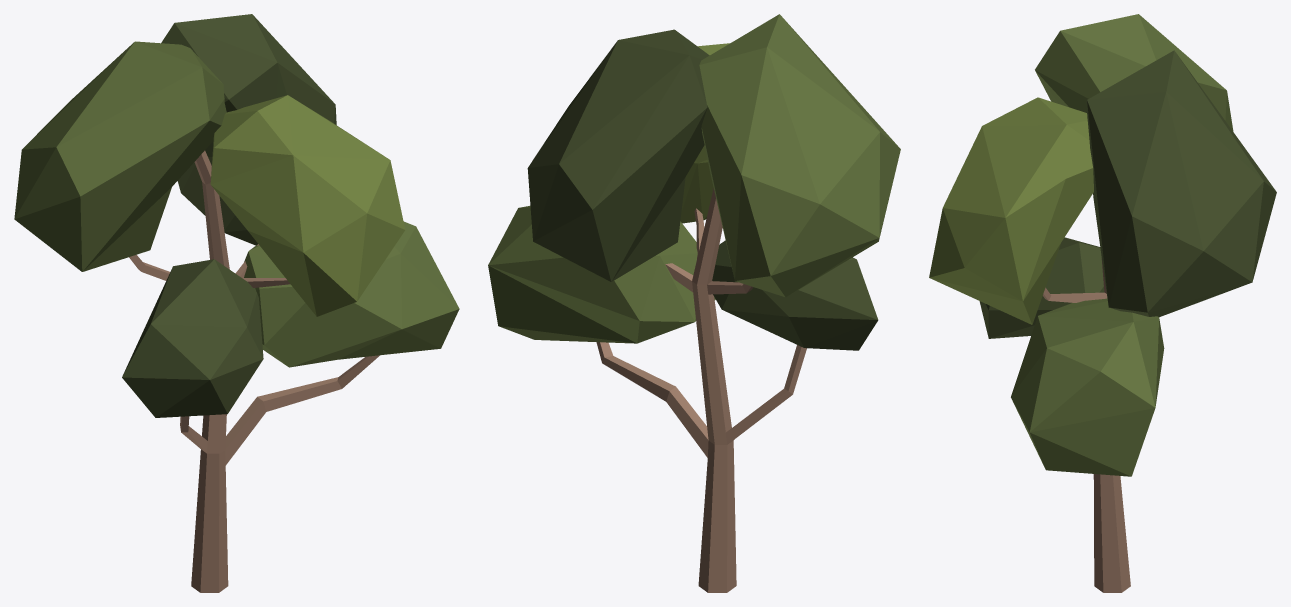
Rendered from Tree_Type4_03.glb.
3 views of the same model, side by side, from view 1: azimuth 30°, elevation 25°; view 2: azimuth 150°, elevation 25°; view 3: azimuth 270°, elevation 25° (orthographic). The views are drawn at different scales.
Parts seen in each view (by area): view 1: Tree Type4 03 Model; view 2: Tree Type4 03 Model; view 3: Tree Type4 03 Model.
Part boxes in pixels (x1,y1,x2,y2): Tree Type4 03 Model: [14, 14, 459, 592]; Tree Type4 03 Model: [488, 14, 900, 592]; Tree Type4 03 Model: [929, 14, 1276, 592].
Bounding box in the file's own units: 3.33 × 4.55 × 2.65.
1 material, 1 textured.
